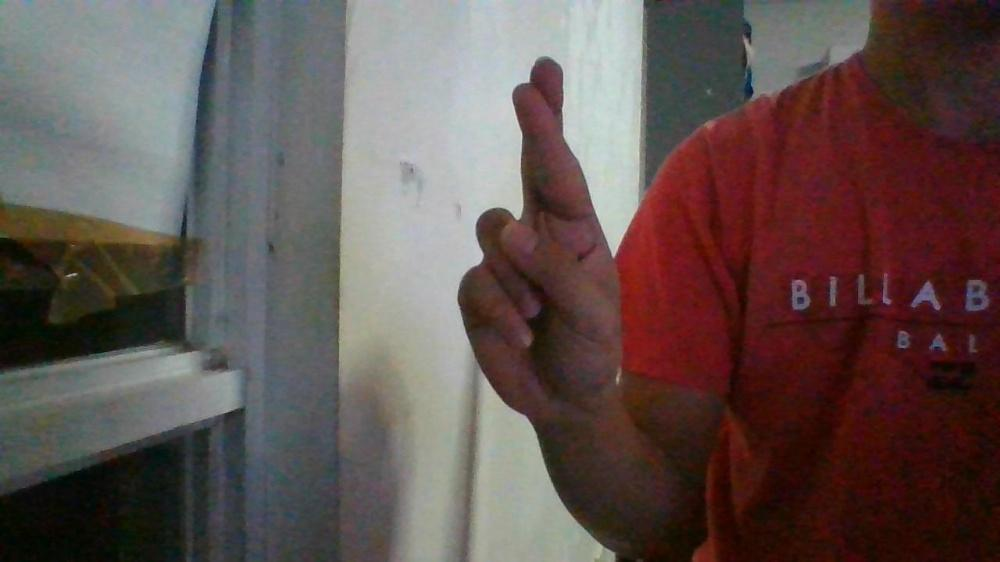r: (456, 56, 624, 420)
